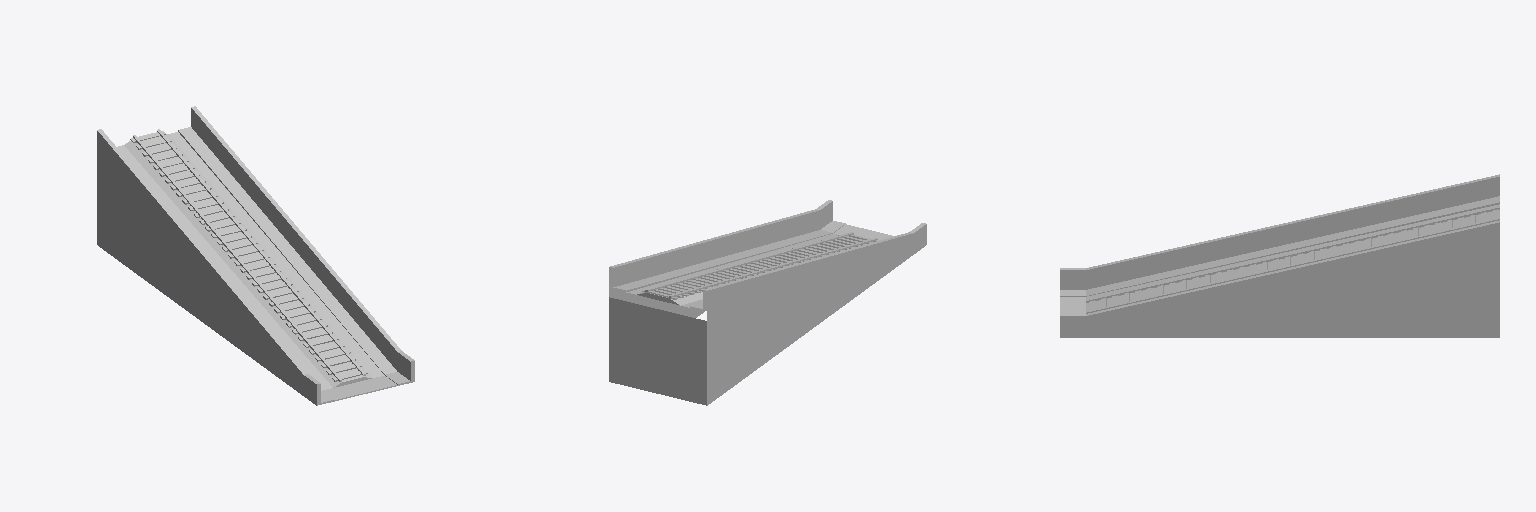
File: SM_Env_Track_Ramp_01.obj
3 views of the same model, side by side, from view 1: azimuth 30°, elevation 25°; view 2: azimuth 150°, elevation 25°; view 3: azimuth 270°, elevation 25° (orthographic).
Parts seen in each view (by area): view 1: SM_Env_Track_Ramp_01:Mesh; view 2: SM_Env_Track_Ramp_01:Mesh; view 3: SM_Env_Track_Ramp_01:Mesh.
Part boxes in pixels (bbox=[...]): SM_Env_Track_Ramp_01:Mesh: bbox=[97, 106, 414, 405]; SM_Env_Track_Ramp_01:Mesh: bbox=[609, 200, 926, 405]; SM_Env_Track_Ramp_01:Mesh: bbox=[1060, 174, 1499, 337].
Bounding box in the file's own units: 10.98 × 12.29 × 42.5.